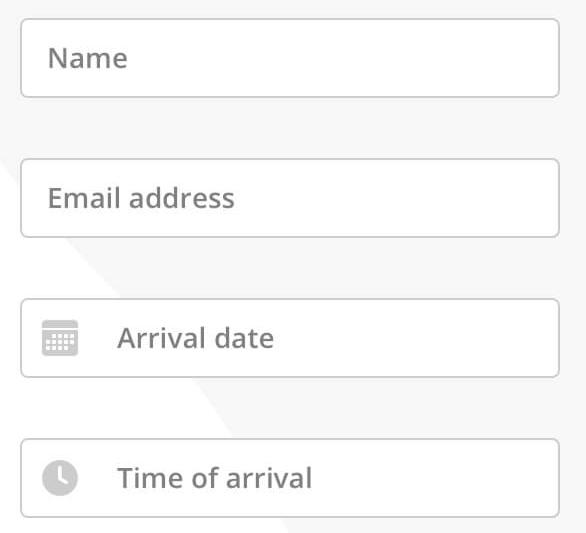field: (18, 16, 559, 99), (18, 437, 559, 520), (18, 299, 561, 380), (18, 159, 557, 239)
